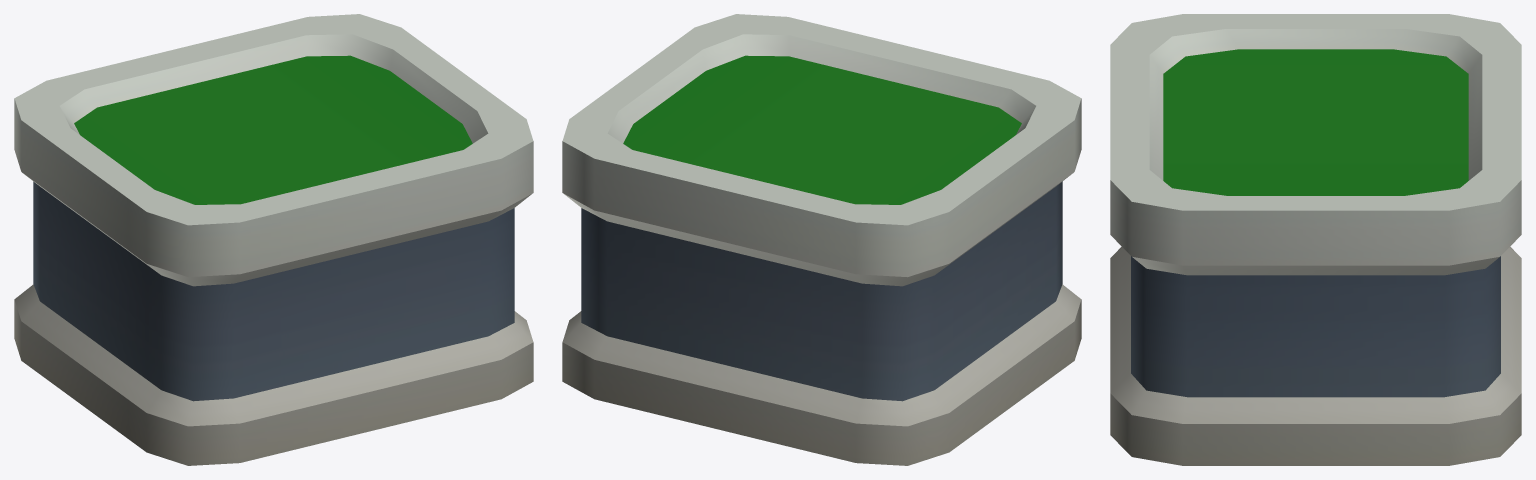
The model's file is FlowerPlacet_5_2_D.fbx.
3 views of the same model, side by side, from view 1: azimuth 30°, elevation 25°; view 2: azimuth 150°, elevation 25°; view 3: azimuth 270°, elevation 25° (orthographic). The views are drawn at different scales.
Visible parts, largest first — view 1: FlowerPlacet_5_2_D; view 2: FlowerPlacet_5_2_D; view 3: FlowerPlacet_5_2_D.
Boxes of the visible parts, x1,y1,x2,y2 form: FlowerPlacet_5_2_D: (14,14,533,465); FlowerPlacet_5_2_D: (562,14,1081,465); FlowerPlacet_5_2_D: (1110,14,1521,465).
Bounding box in the file's own units: 143 × 86.38 × 126.
